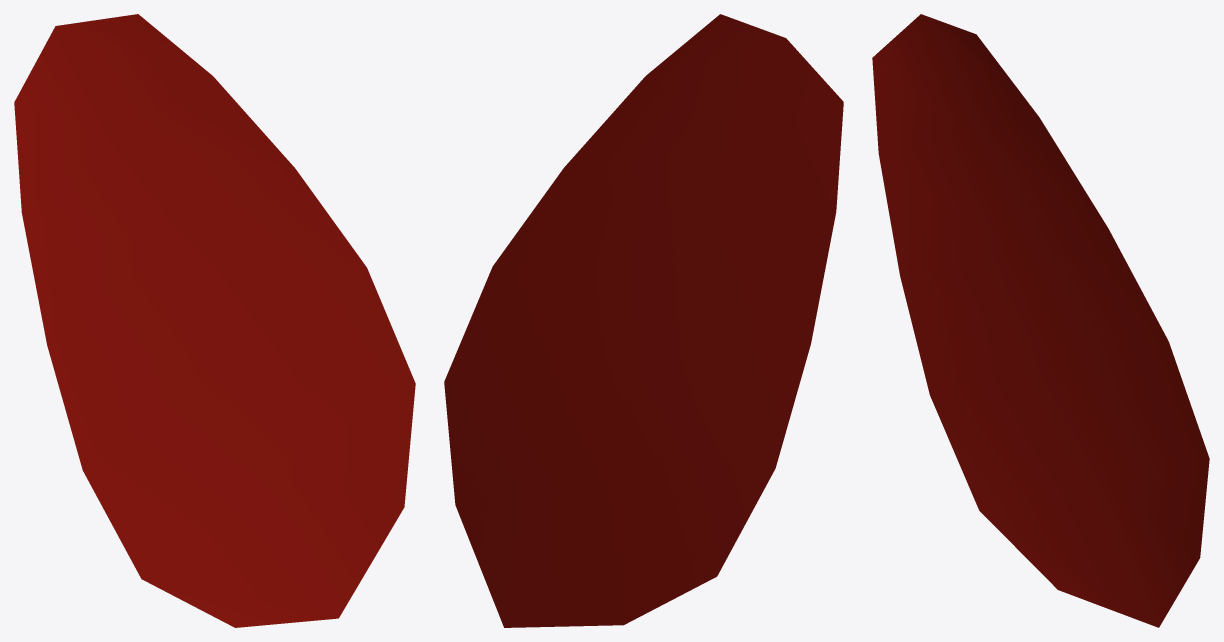
The model's file is ara_feather_flight_tertiary_055.obj.
The picture shows the model from 3 angles, left to right: view 1: azimuth 30°, elevation 25°; view 2: azimuth 150°, elevation 25°; view 3: azimuth 330°, elevation 25°; orthographic projection. The views are drawn at different scales.
Visible parts, largest first — view 1: feather_flight_tertiary_055; view 2: feather_flight_tertiary_055; view 3: feather_flight_tertiary_055.
Part boxes in pixels (box(x1,y1,x2,y2)): feather_flight_tertiary_055: box(14, 14, 415, 627); feather_flight_tertiary_055: box(444, 14, 843, 627); feather_flight_tertiary_055: box(872, 14, 1209, 627).
Size of the model in its own units: 0.0202 by 0.0318 by 0.000725.
